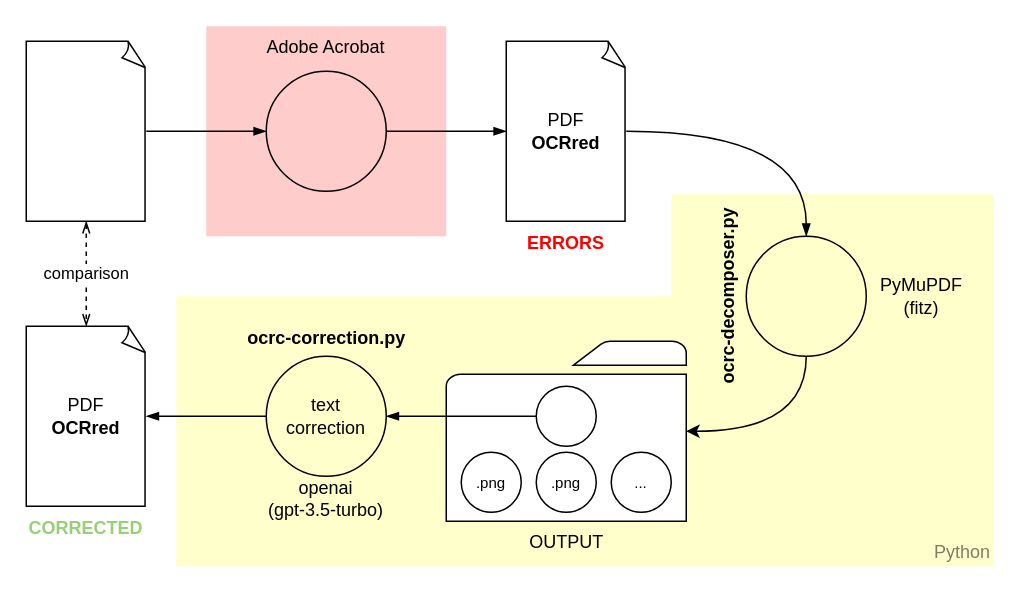
This 1020x591 diagram has some shape labels left out. The shapes that lost their labels are listed below. From the top down, each one's centre as x and y in pixels, then its label:
At (85,130): "Scanned Image or PDF".
At (325,130): "Recognise Text".
At (805,295): "Decompose PDF".
At (565,415): ".txt".
